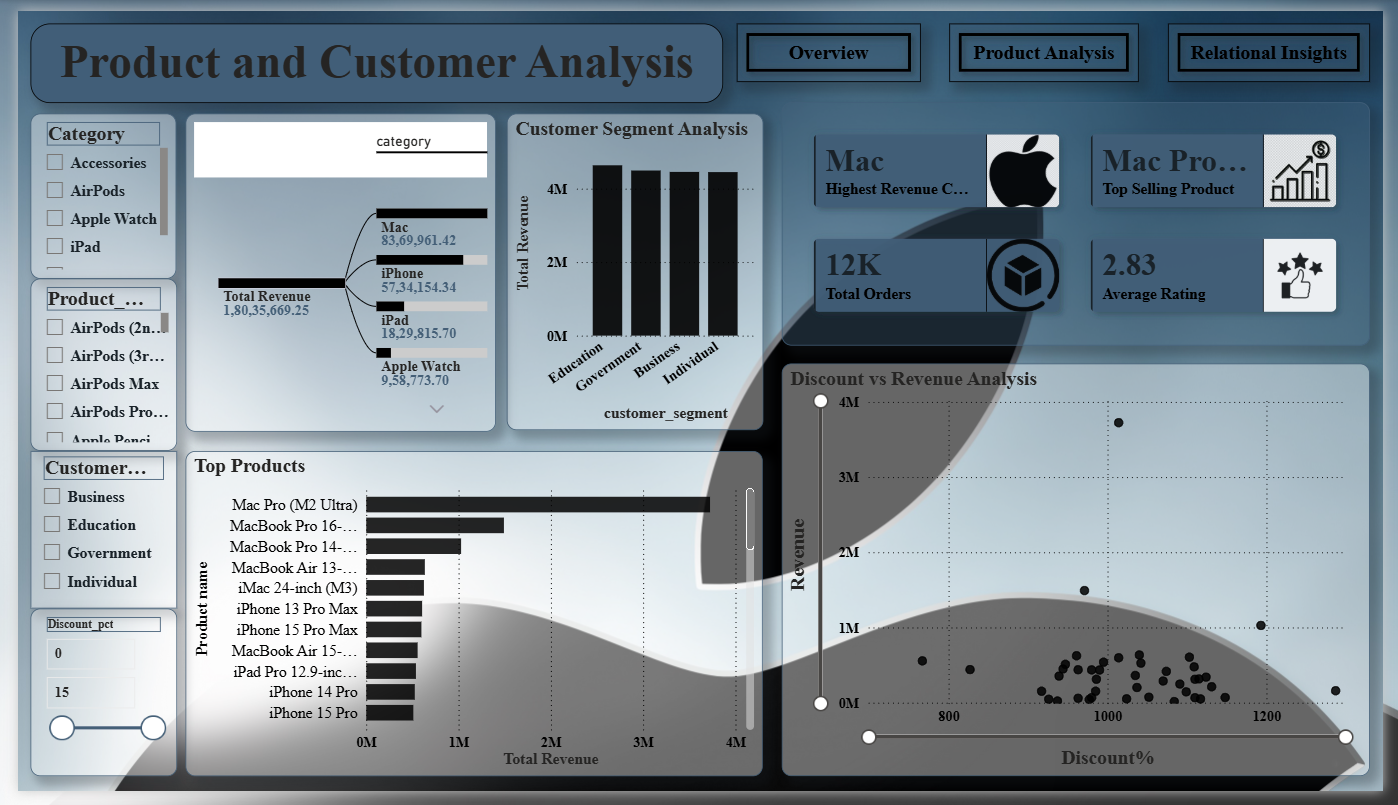

The page's visual inventory and layout, read from the dashboard file:
{"tool":"powerbi","page":{"name":"Product Analysis","canvas":[1400,800],"ordinal":1},"visuals":[{"type":"textbox","box":[12.3,12.3,710.8,81.5],"z":0},{"type":"cardVisual","fields":{"Data":["apple_global_sales_dataset.Highest Revenue Category","apple_global_sales_dataset.Top Selling Product","apple_global_sales_dataset.Total Orders","apple_global_sales_dataset.Average Rating"]},"box":[783.1,93.8,603.1,249.2],"z":1000},{"type":"slicer","fields":{"Values":["apple_global_sales_dataset.category"]},"box":[12.3,104.6,149.2,169.2],"z":2000},{"type":"slicer","fields":{"Values":["apple_global_sales_dataset.product_name"]},"box":[12.3,273.8,150.8,176.9],"z":3000},{"type":"slicer","fields":{"Values":["apple_global_sales_dataset.customer_segment"]},"box":[12.3,450.8,150.8,161.5],"z":4000},{"type":"slicer","fields":{"Values":["apple_global_sales_dataset.discount_pct"]},"box":[12.3,612.3,150.8,172.3],"z":5000},{"type":"barChart","title":"Top Products","fields":{"Category":["apple_global_sales_dataset.product_name"],"Y":["apple_global_sales_dataset.Total Revenue"]},"box":[172.3,450.8,592.3,333.8],"z":6000},{"type":"scatterChart","title":"Discount vs Revenue Analysis","fields":{"X":["Sum(apple_global_sales_dataset.discount_pct)"],"Y":["Sum(apple_global_sales_dataset.revenue_usd)"],"Category":["apple_global_sales_dataset.product_name"]},"box":[783.1,361.5,603.1,423.1],"z":7000},{"type":"columnChart","title":"Customer Segment Analysis","fields":{"Category":["apple_global_sales_dataset.customer_segment"],"Y":["apple_global_sales_dataset.Total Revenue"]},"box":[501.5,104.6,263.1,324.6],"z":8000},{"type":"decompositionTreeVisual","fields":{"ExplainBy":["apple_global_sales_dataset.category"],"Analyze":["apple_global_sales_dataset.Total Revenue"]},"box":[172.3,104.6,318.5,326.2],"z":9000},{"type":"actionButton","box":[737.5,12.5,188.9,59.7],"z":10000},{"type":"actionButton","box":[955.6,12.5,194.4,59.7],"z":11000},{"type":"actionButton","box":[1179.2,12.5,206.9,59.7],"z":12000}]}

Visuals, with their boxes in screenshot pixels (x1, y1, x2, y2), scaled from the page's 1400x800 canvas onto the 1398x805 screenshot:
textbox: pyautogui.locateOnScreen(12, 12, 722, 94)
cardVisual - apple_global_sales_dataset.Highest Revenue Category x apple_global_sales_dataset.Top Selling Product: pyautogui.locateOnScreen(782, 94, 1384, 345)
slicer - apple_global_sales_dataset.category: pyautogui.locateOnScreen(12, 105, 161, 276)
slicer - apple_global_sales_dataset.product_name: pyautogui.locateOnScreen(12, 276, 163, 454)
slicer - apple_global_sales_dataset.customer_segment: pyautogui.locateOnScreen(12, 454, 163, 616)
slicer - apple_global_sales_dataset.discount_pct: pyautogui.locateOnScreen(12, 616, 163, 790)
"Top Products" barChart: pyautogui.locateOnScreen(172, 454, 764, 790)
"Discount vs Revenue Analysis" scatterChart: pyautogui.locateOnScreen(782, 364, 1384, 790)
"Customer Segment Analysis" columnChart: pyautogui.locateOnScreen(501, 105, 764, 432)
decompositionTreeVisual - apple_global_sales_dataset.category x apple_global_sales_dataset.Total Revenue: pyautogui.locateOnScreen(172, 105, 490, 433)
actionButton: pyautogui.locateOnScreen(736, 13, 925, 73)
actionButton: pyautogui.locateOnScreen(954, 13, 1148, 73)
actionButton: pyautogui.locateOnScreen(1178, 13, 1384, 73)
